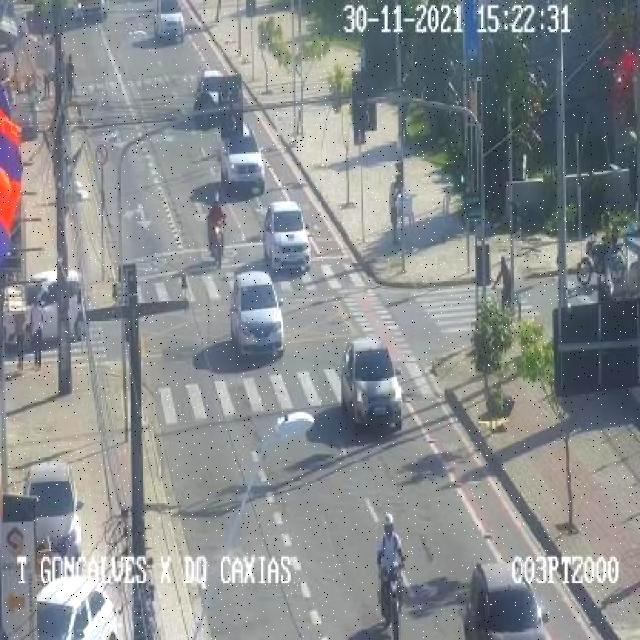Car: (2, 270, 88, 351), (21, 461, 84, 561), (465, 564, 547, 638), (340, 337, 406, 428), (34, 574, 124, 638), (230, 270, 284, 357), (216, 125, 268, 194), (262, 201, 310, 273), (153, 0, 186, 42)
Cycle: (576, 237, 634, 284), (378, 554, 407, 640), (206, 215, 228, 268)
